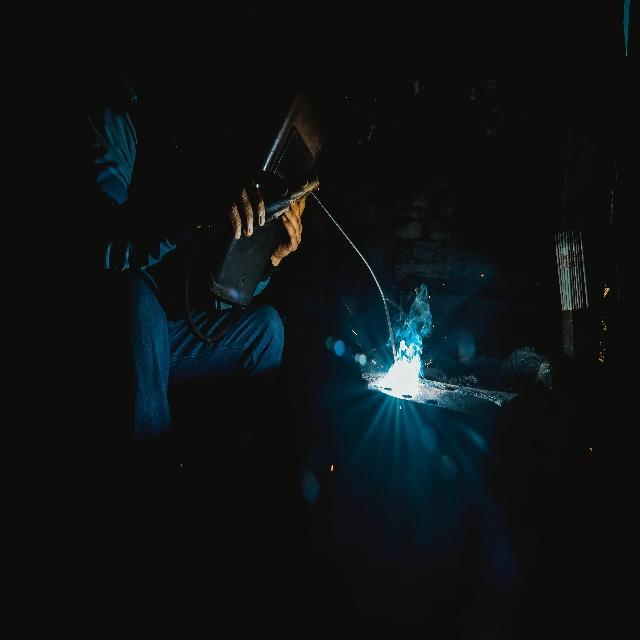Sin_guantes: (226, 178, 265, 239), (272, 198, 306, 261)
